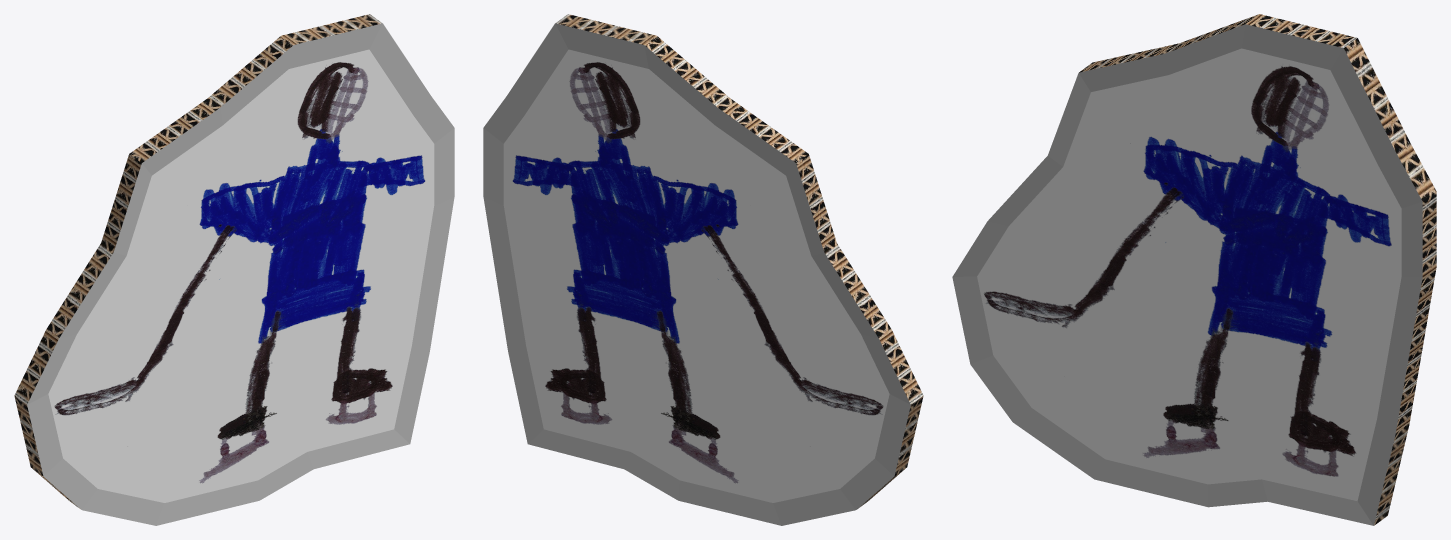
Rendered from KiekkoilijaSininen2.fbx.
The picture shows the model from 3 angles, left to right: view 1: azimuth 30°, elevation 25°; view 2: azimuth 150°, elevation 25°; view 3: azimuth 330°, elevation 25°; orthographic projection. The views are drawn at different scales.
Visible parts, largest first — view 1: KiekkoilijaSininen2; view 2: KiekkoilijaSininen2; view 3: KiekkoilijaSininen2.
Boxes of the visible parts, box(x1,y1,x2,y2) form: KiekkoilijaSininen2: box(14, 14, 454, 525); KiekkoilijaSininen2: box(483, 14, 923, 525); KiekkoilijaSininen2: box(952, 14, 1436, 525).
Bounding box in the file's own units: 222 × 222 × 11.41.
